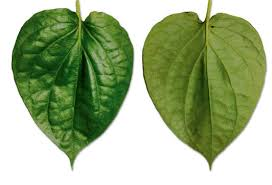healthy: (14, 1, 139, 177), (145, 3, 263, 180)
